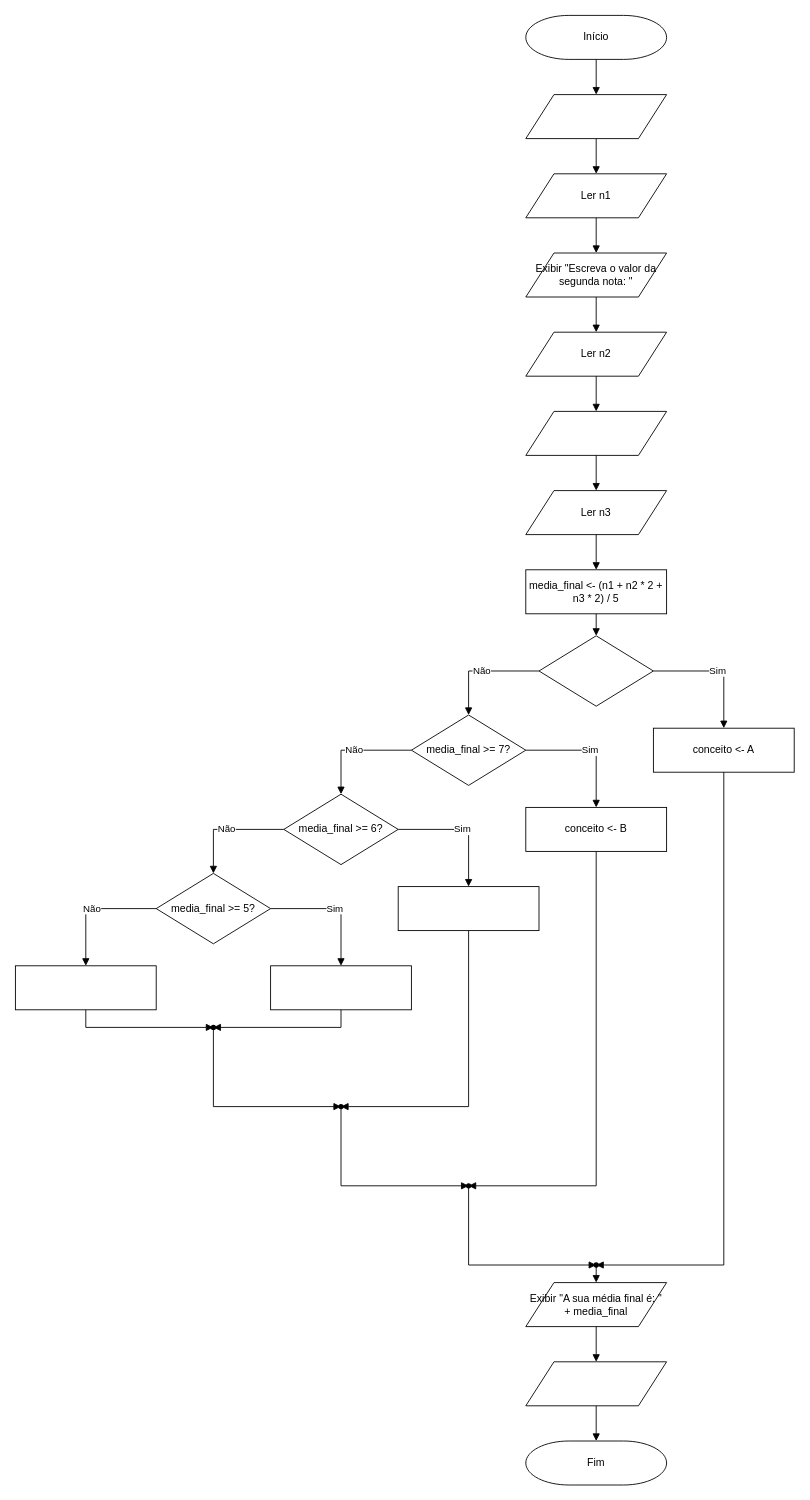
Some shapes in this 810 by 1500 pixel diagram are drawn without their labels. The shapes that lost their labels are listed below. From the top down, each one's box as (x1, y1, x2, y2) in pixels, then its label:
(525, 94, 667, 139): Exibir "Escreva o valor da primeira nota: "
(525, 411, 667, 455): Exibir "Escreva o valor da terceira nota: "
(538, 635, 653, 706): media_final >= 8?
(397, 886, 539, 931): conceito <- C
(15, 965, 156, 1010): conceito <- E
(270, 965, 411, 1010): conceito <- D
(525, 1361, 667, 1406): Exibir "O seu conceito final é: " + conceito
